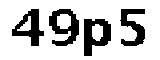4: (11, 6, 45, 51)
5: (116, 6, 147, 49)
9: (46, 7, 79, 51)
p: (80, 15, 113, 59)
